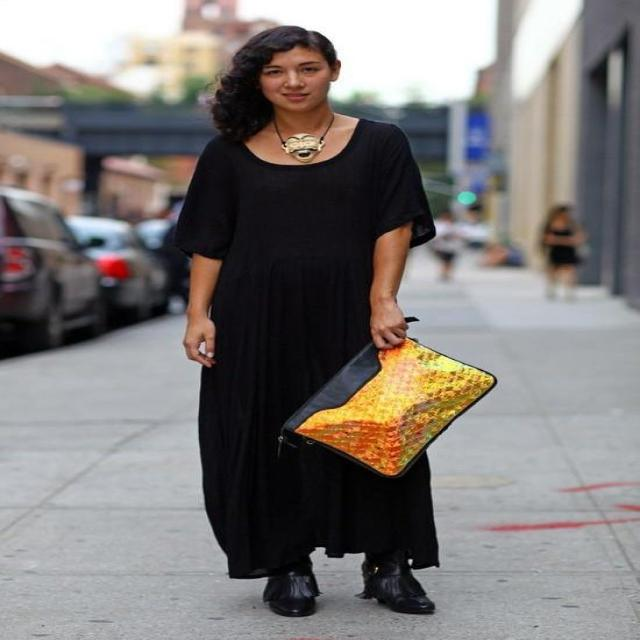dress: (172, 118, 436, 580)
